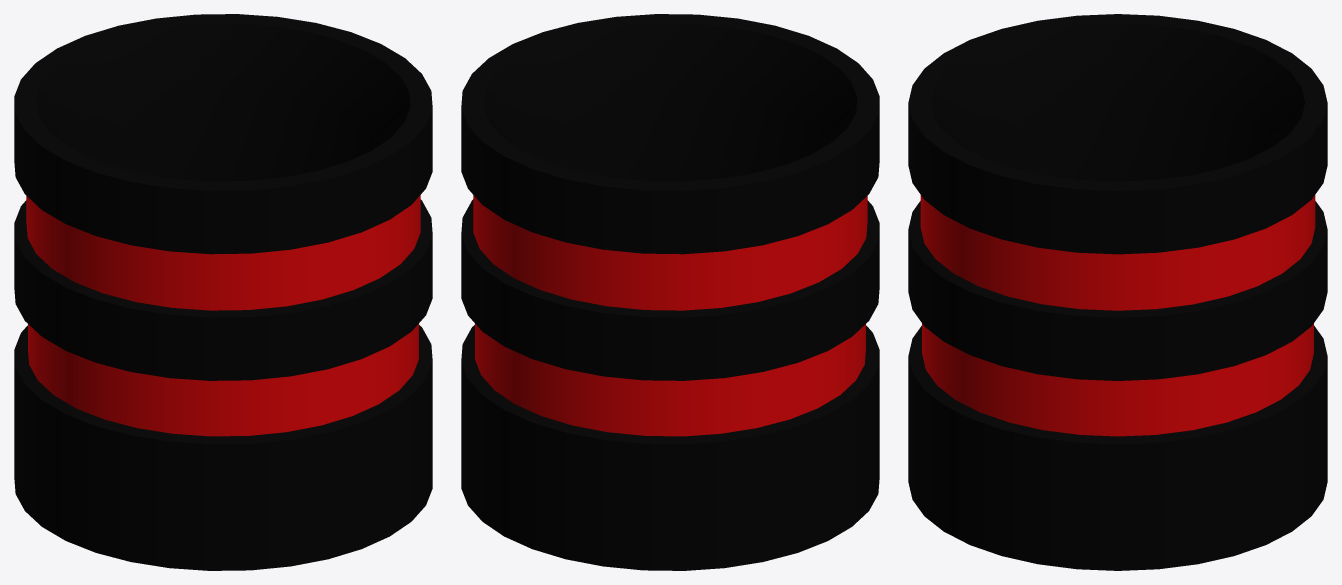
Rendered from cannon.fbx.
3 renders of one model, left to right at view 1: azimuth 30°, elevation 25°; view 2: azimuth 150°, elevation 25°; view 3: azimuth 270°, elevation 25°, orthographic.
Visible parts, largest first — view 1: Cylinder; view 2: Cylinder; view 3: Cylinder.
Part boxes in pixels (x1=…): Cylinder: x1=14, y1=14, x2=432, y2=570; Cylinder: x1=461, y1=14, x2=879, y2=570; Cylinder: x1=908, y1=14, x2=1327, y2=570.
Size of the model in its own units: 200 by 200 by 200.
